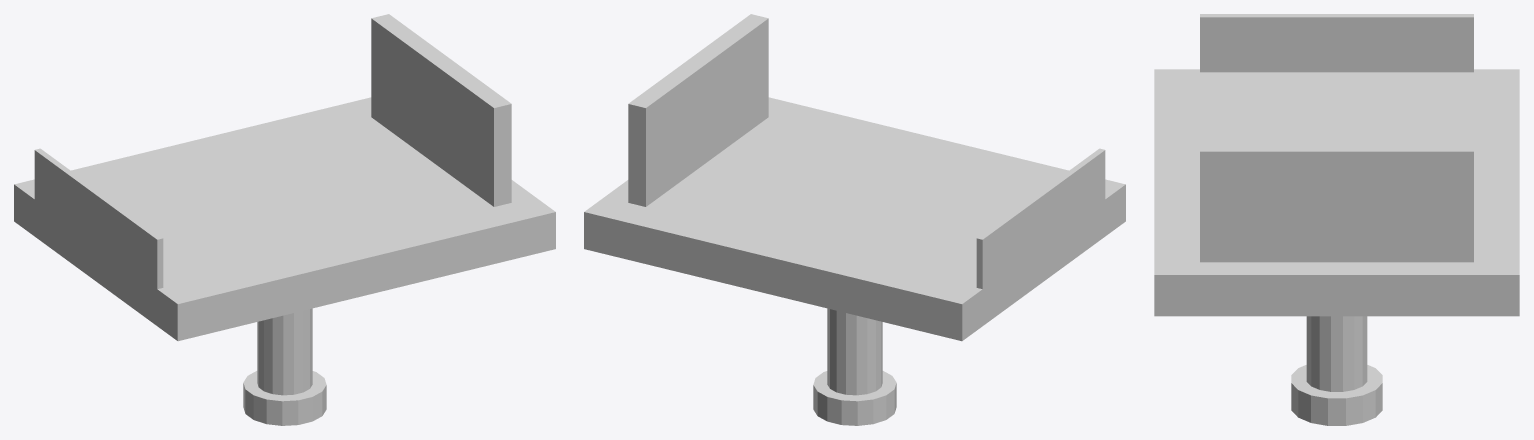
Rendered from dc_metrobus_bench_3.obj.
3 renders of one model, left to right at view 1: azimuth 30°, elevation 25°; view 2: azimuth 150°, elevation 25°; view 3: azimuth 270°, elevation 25°, orthographic. The views are drawn at different scales.
Parts seen in each view (by area): view 1: cube, cylinder; view 2: cube, cylinder; view 3: cube, cylinder.
Part boxes in pixels (x1,y1,x2,y2): cube: (14,14,555,341); cylinder: (243,308,326,425); cube: (584,14,1125,341); cylinder: (813,308,896,425); cube: (1154,14,1519,316); cylinder: (1291,316,1382,425).
Bounding box in the file's own units: 1 × 0.7812 × 0.75.
Materials: 1 (1 with a texture image).
